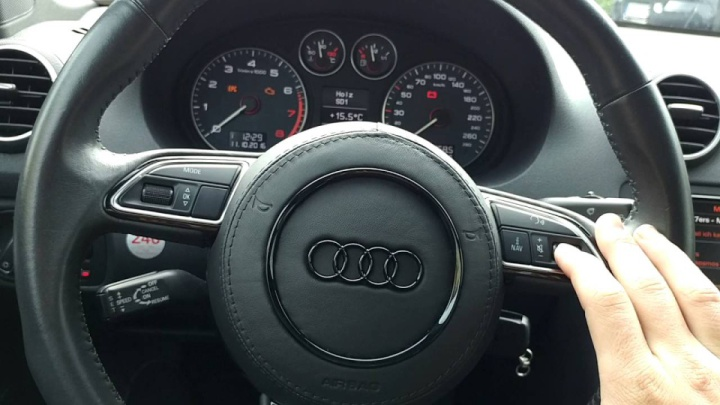audi: (299, 226, 426, 300)
